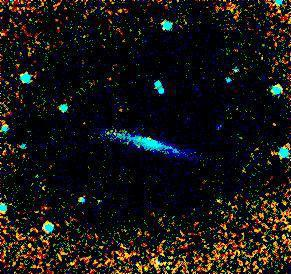star: (124, 122, 154, 152)
